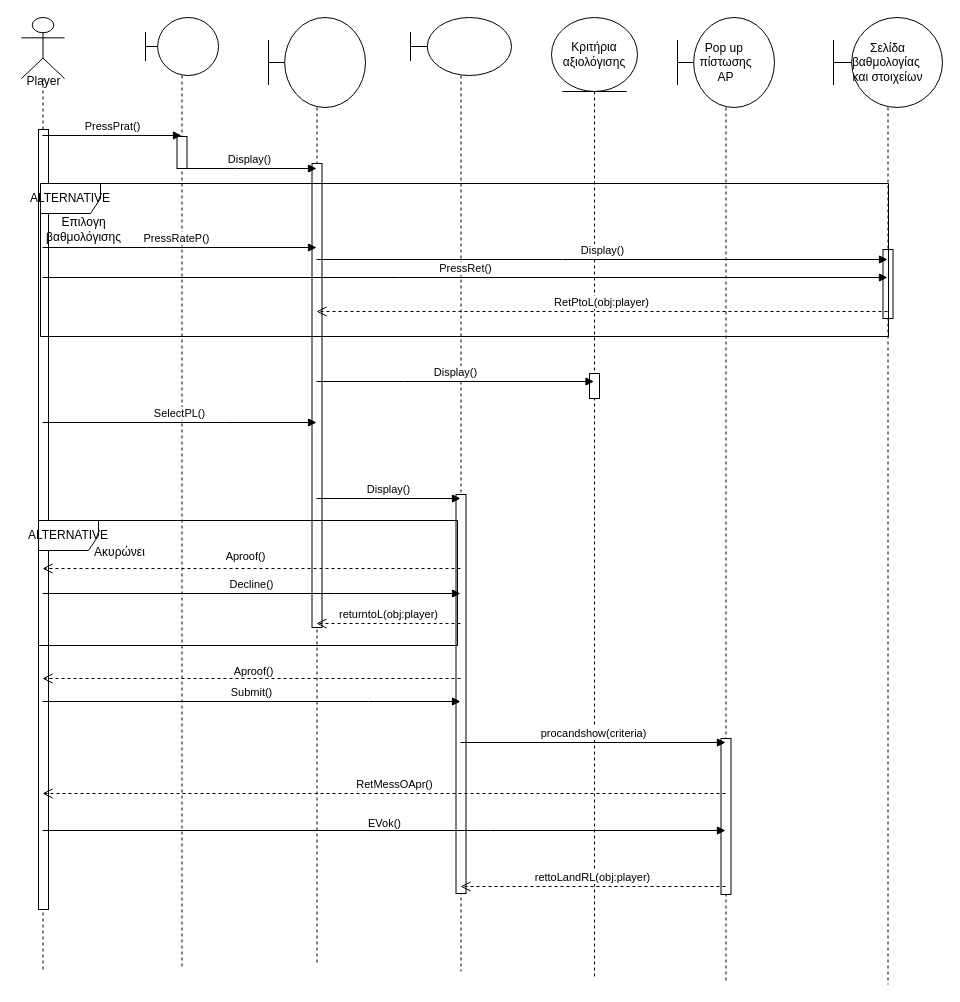
The diagram is 960 pixels wide and 1002 high, and some of its shapes have lost their labels. Each missing label, with the box of its shape:
Αρχικό μενού: (144, 16, 218, 968)
Λίστα παικτών και πεδία κριτηρίων: (268, 16, 366, 966)
Τελική ενημερωμένη λίστα: (410, 16, 512, 972)
